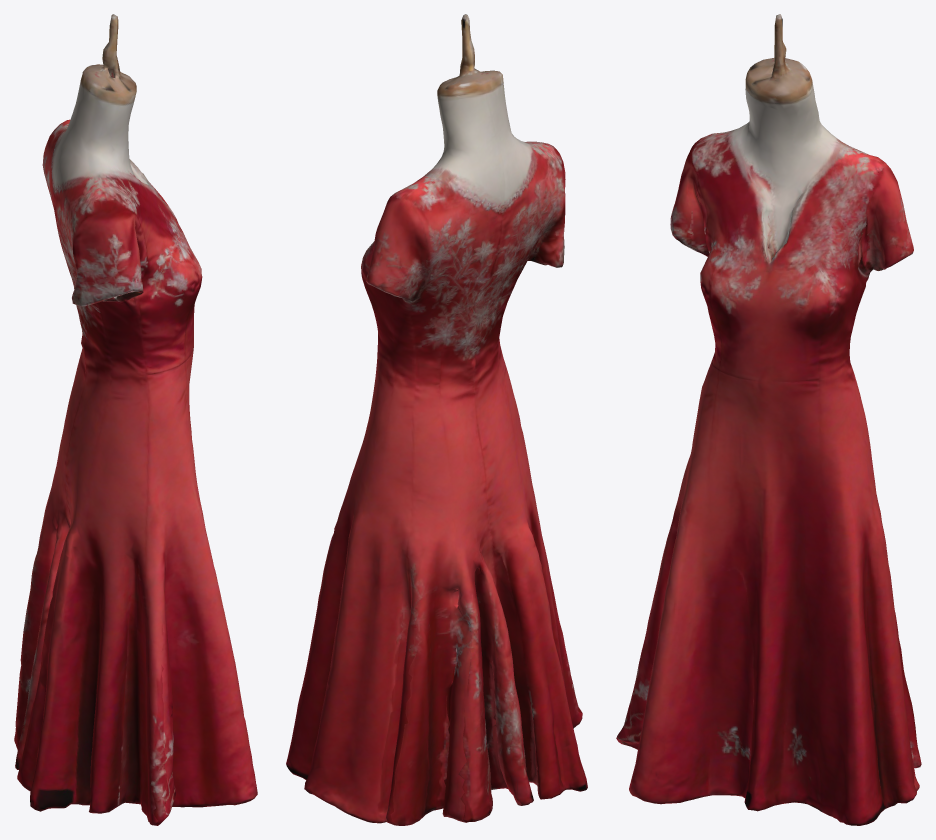
File: job_1743888482_refined.glb
The picture shows the model from 3 angles, left to right: view 1: azimuth 30°, elevation 25°; view 2: azimuth 150°, elevation 25°; view 3: azimuth 270°, elevation 25°; orthographic projection.
Bounding box in the file's own units: 0.654 × 2.01 × 0.7298.
1 material, 1 textured.
